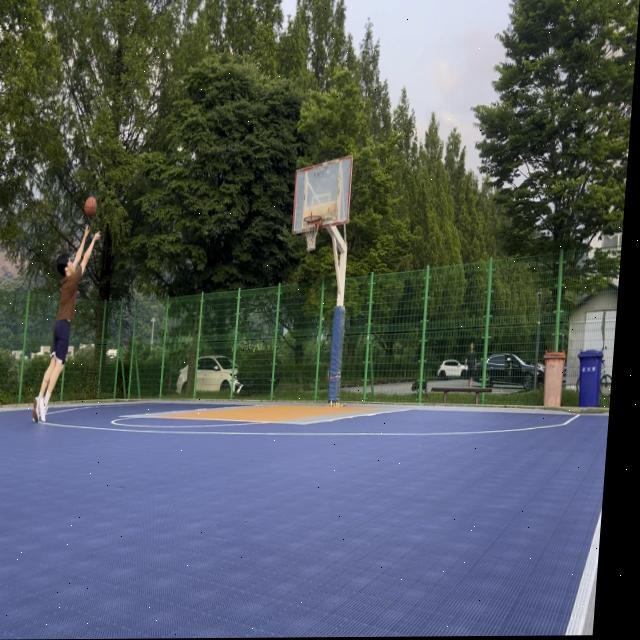basketball: (83, 196, 98, 218)
hoop: (301, 215, 322, 253)
